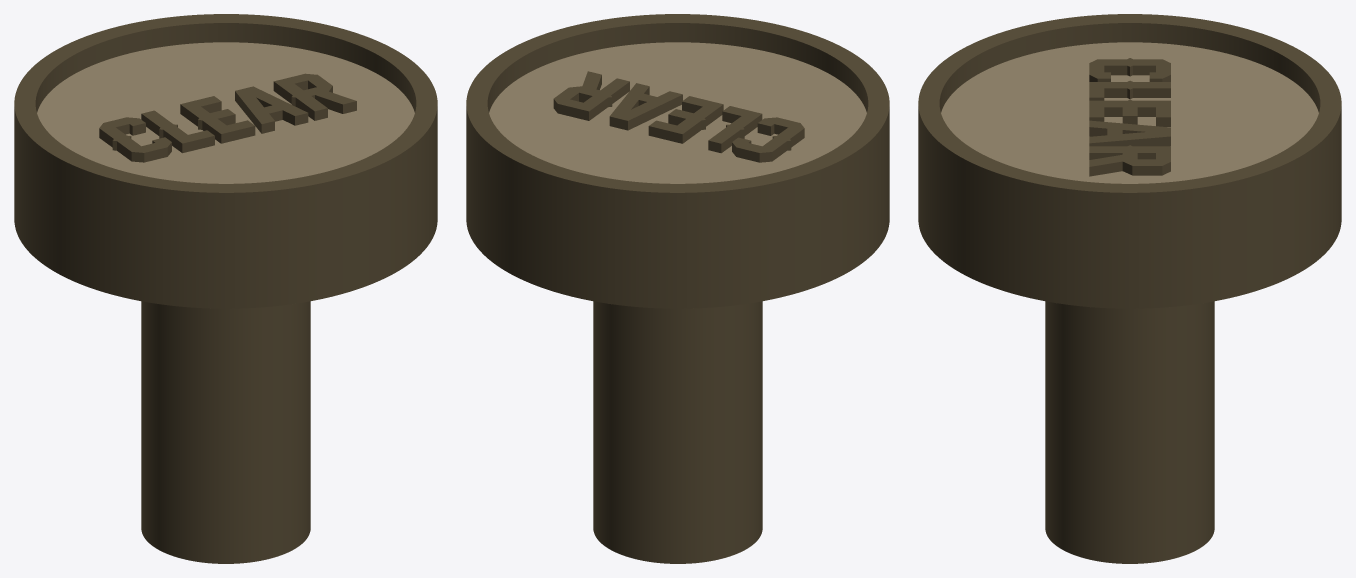
File: Clear Button.fbx
3 renders of one model, left to right at view 1: azimuth 30°, elevation 25°; view 2: azimuth 150°, elevation 25°; view 3: azimuth 270°, elevation 25°, orthographic.
Parts seen in each view (by area): view 1: Cylinder, Cylinder.002, Circle, Text.003; view 2: Cylinder, Cylinder.002, Circle, Text.003; view 3: Cylinder, Cylinder.002, Circle, Text.003.
Part boxes in pixels (x1,y1,x2,y2): Cylinder: (14, 14, 437, 308); Cylinder.002: (141, 301, 310, 563); Circle: (37, 42, 414, 183); Text.003: (99, 73, 356, 162); Cylinder: (466, 14, 889, 308); Cylinder.002: (593, 301, 762, 563); Circle: (489, 42, 866, 183); Text.003: (553, 71, 804, 162); Cylinder: (918, 14, 1341, 308); Cylinder.002: (1045, 301, 1214, 563); Circle: (941, 42, 1318, 183); Text.003: (1089, 58, 1170, 176).
Bounding box in the file's own units: 199 × 220 × 199.
